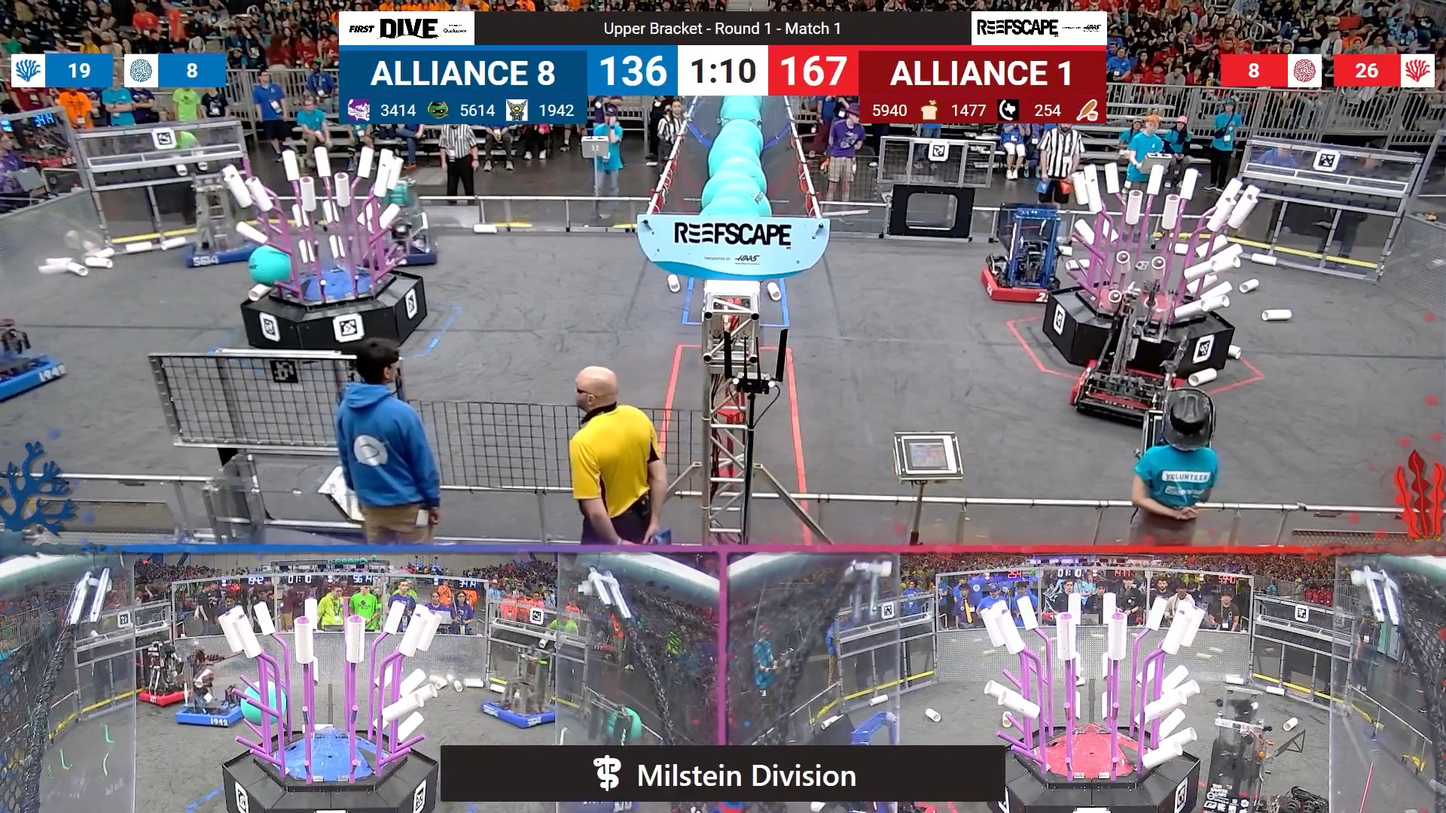bumpers: (1063, 363, 1184, 427), (0, 347, 71, 407), (976, 259, 1066, 306), (178, 237, 275, 275), (472, 696, 564, 734), (366, 233, 448, 271), (173, 698, 256, 733), (135, 684, 195, 709)
